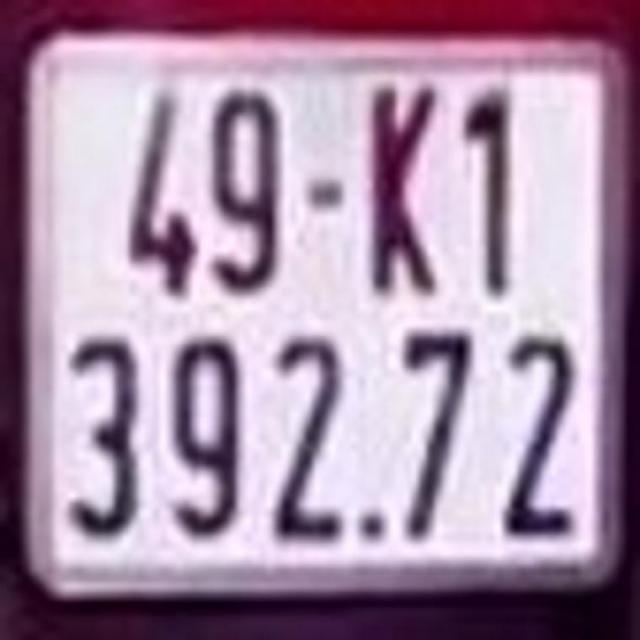1: (456, 64, 532, 294)
2: (504, 316, 602, 548), (267, 306, 352, 557)
3: (59, 328, 145, 531)
4: (107, 71, 200, 302)
7: (395, 302, 479, 548)
9: (203, 64, 295, 298), (166, 319, 252, 532)
K: (364, 66, 454, 308)
